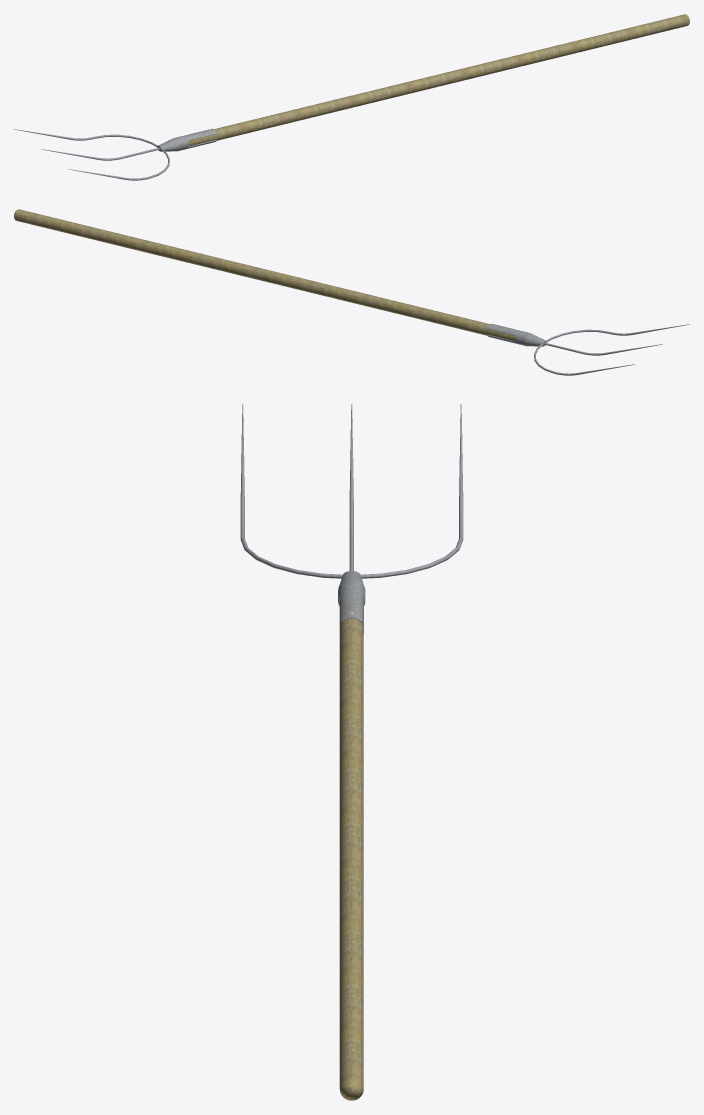
The model's file is hayfork.glb.
The picture shows the model from 3 angles, top to bottom: view 1: azimuth 30°, elevation 25°; view 2: azimuth 150°, elevation 25°; view 3: azimuth 270°, elevation 25°; orthographic projection. The views are drawn at different scales.
Visible parts, largest first — view 1: cc5b49bb-ca52-45da-8b6b-c3c4ab2a86b9; view 2: cc5b49bb-ca52-45da-8b6b-c3c4ab2a86b9; view 3: cc5b49bb-ca52-45da-8b6b-c3c4ab2a86b9.
Boxes of the visible parts, x1,y1,x2,y2 form: cc5b49bb-ca52-45da-8b6b-c3c4ab2a86b9: [14, 14, 689, 180]; cc5b49bb-ca52-45da-8b6b-c3c4ab2a86b9: [14, 209, 689, 375]; cc5b49bb-ca52-45da-8b6b-c3c4ab2a86b9: [240, 404, 463, 1100].
Bounding box in the file's own units: 33.18 × 1.7 × 4.94.
Materials: 3 (2 with a texture image).
